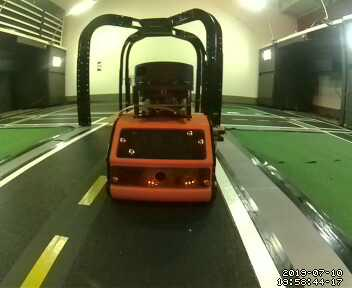pheeno: (107, 59, 216, 214)
